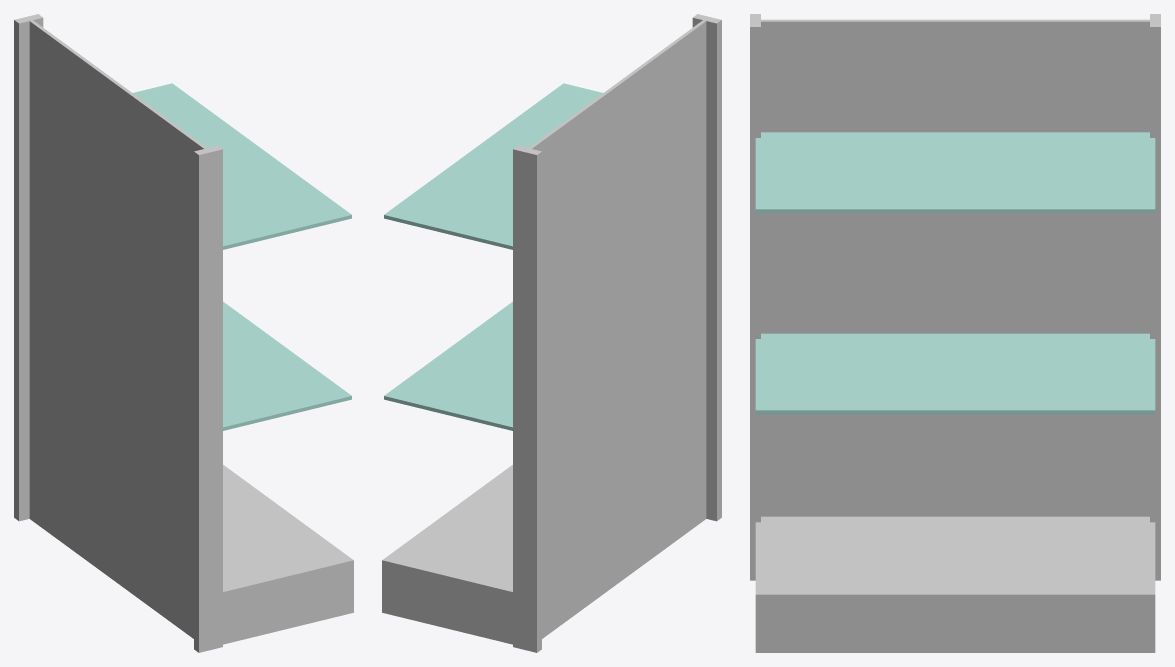
The model's file is shelf.dae.
3 renders of one model, left to right at view 1: azimuth 30°, elevation 25°; view 2: azimuth 150°, elevation 25°; view 3: azimuth 270°, elevation 25°, orthographic. The views are drawn at different scales.
Visible parts, largest first — view 1: Cube, Cube_003, Cube_002, Cube_004, Cube_005, Cube_001; view 2: Cube, Cube_003, Cube_001, Cube_004, Cube_005, Cube_002; view 3: Cube, Cube_003, Cube_005, Cube_004, Cube_002, Cube_001.
Part boxes in pixels (x1,y1,x2,y2): Cube: (25,17,212,638); Cube_003: (223,465,353,644); Cube_002: (194,145,222,652); Cube_004: (133,83,351,249); Cube_005: (223,301,351,430); Cube_001: (14,14,43,521); Cube: (523,17,710,638); Cube_003: (382,465,512,644); Cube_001: (513,145,541,652); Cube_004: (384,83,602,249); Cube_005: (384,301,512,430); Cube_002: (692,14,721,521); Cube: (750,19,1160,516); Cube_003: (755,516,1155,652); Cube_005: (755,333,1155,414); Cube_004: (755,132,1155,213); Cube_002: (750,14,760,580); Cube_001: (1150,14,1160,580).
Bounding box in the file's own units: 0.455 × 0.925 × 1.38.
